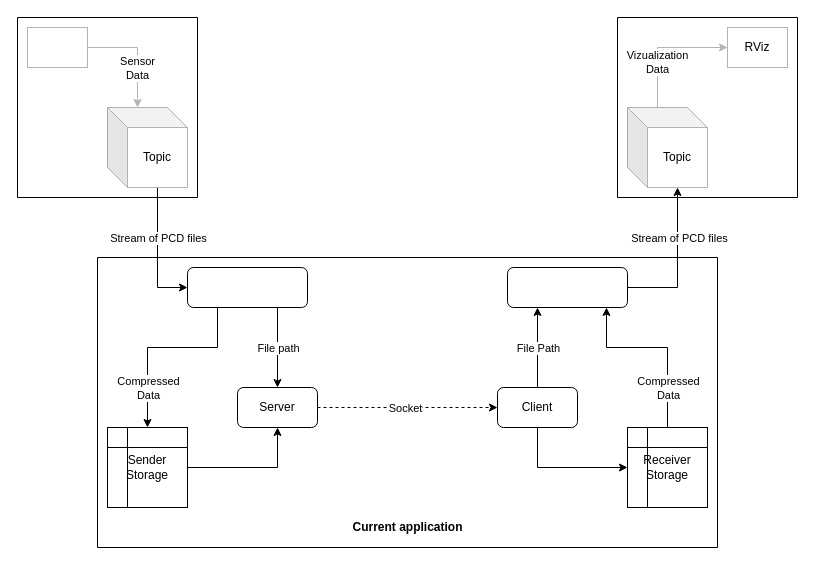
Some shapes in this 815 by 565 pixel diagram are drawn without their labels. Each missing label, with the centre of its shape:
Compress_Decoder: the point at 567,287
Compress_Encoder: the point at 247,287
LiDAR Sensor: the point at 57,47
